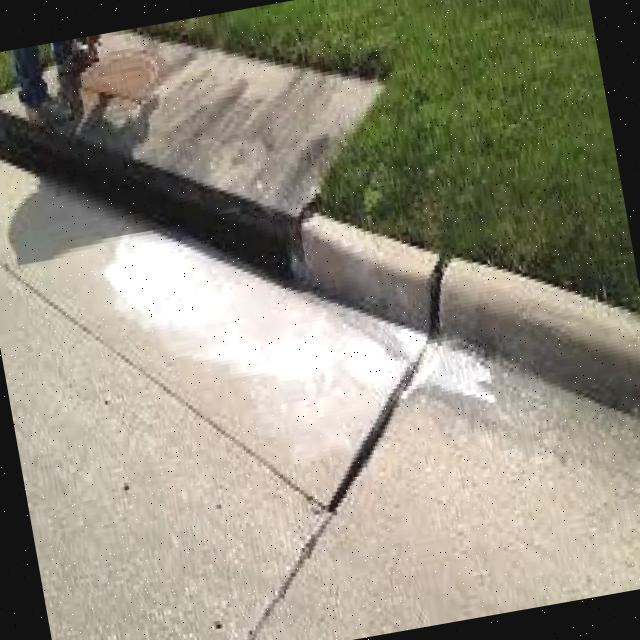curb: (1, 100, 640, 417)
